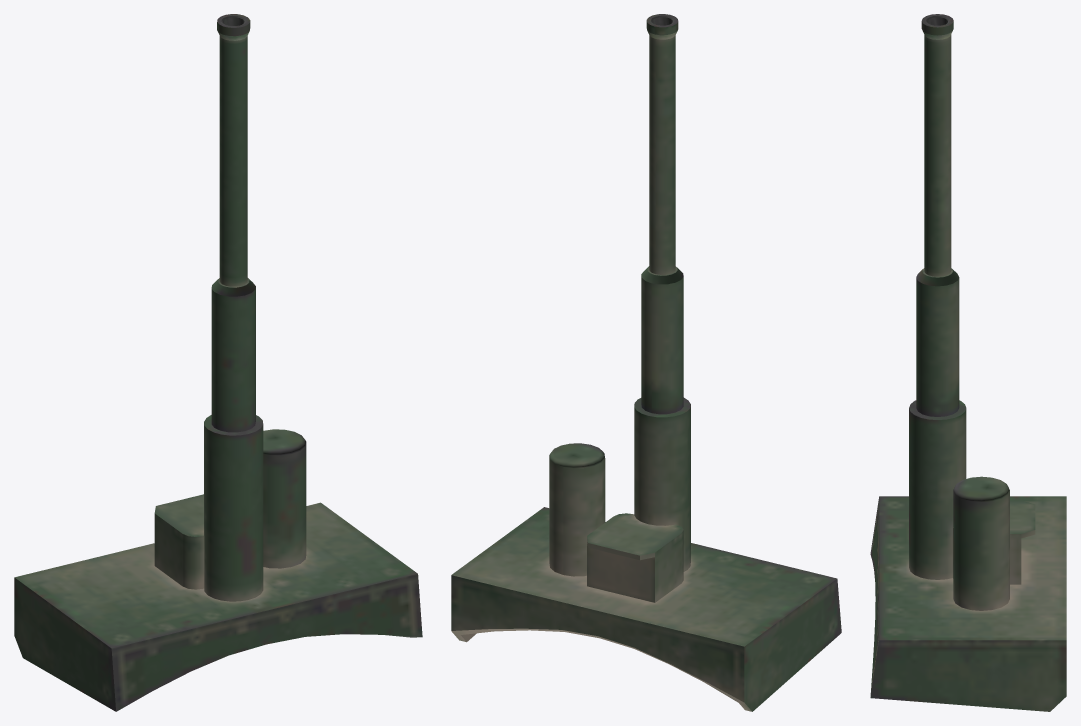
File: Gun_07.glb
3 renders of one model, left to right at view 1: azimuth 30°, elevation 25°; view 2: azimuth 150°, elevation 25°; view 3: azimuth 270°, elevation 25°, orthographic. The views are drawn at different scales.
Visible parts, largest first — view 1: set_0_group_0; view 2: set_0_group_0; view 3: set_0_group_0.
Part boxes in pixels (box(x1,y1,x2,y2)): set_0_group_0: box(14, 14, 422, 711); set_0_group_0: box(451, 14, 841, 711); set_0_group_0: box(870, 14, 1066, 711).
Size of the model in its own units: 0.7365 by 1.48 by 0.4238.
1 material, 1 textured.
